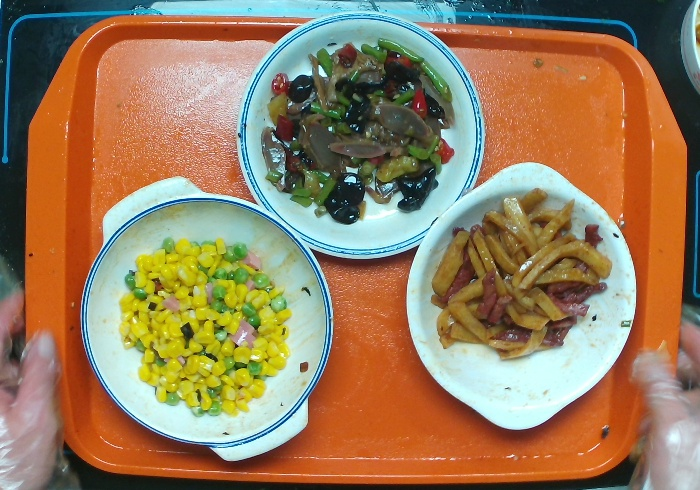HZYJPL-Dai_Er_Bai_Yuan_Wan: (395, 153, 645, 444)
HZYJPL-Lan_Bian_Dai_Er_Wan: (67, 165, 344, 479)
HZYJPL-Lan_Bian_Yuan_Die: (218, 1, 493, 266)
